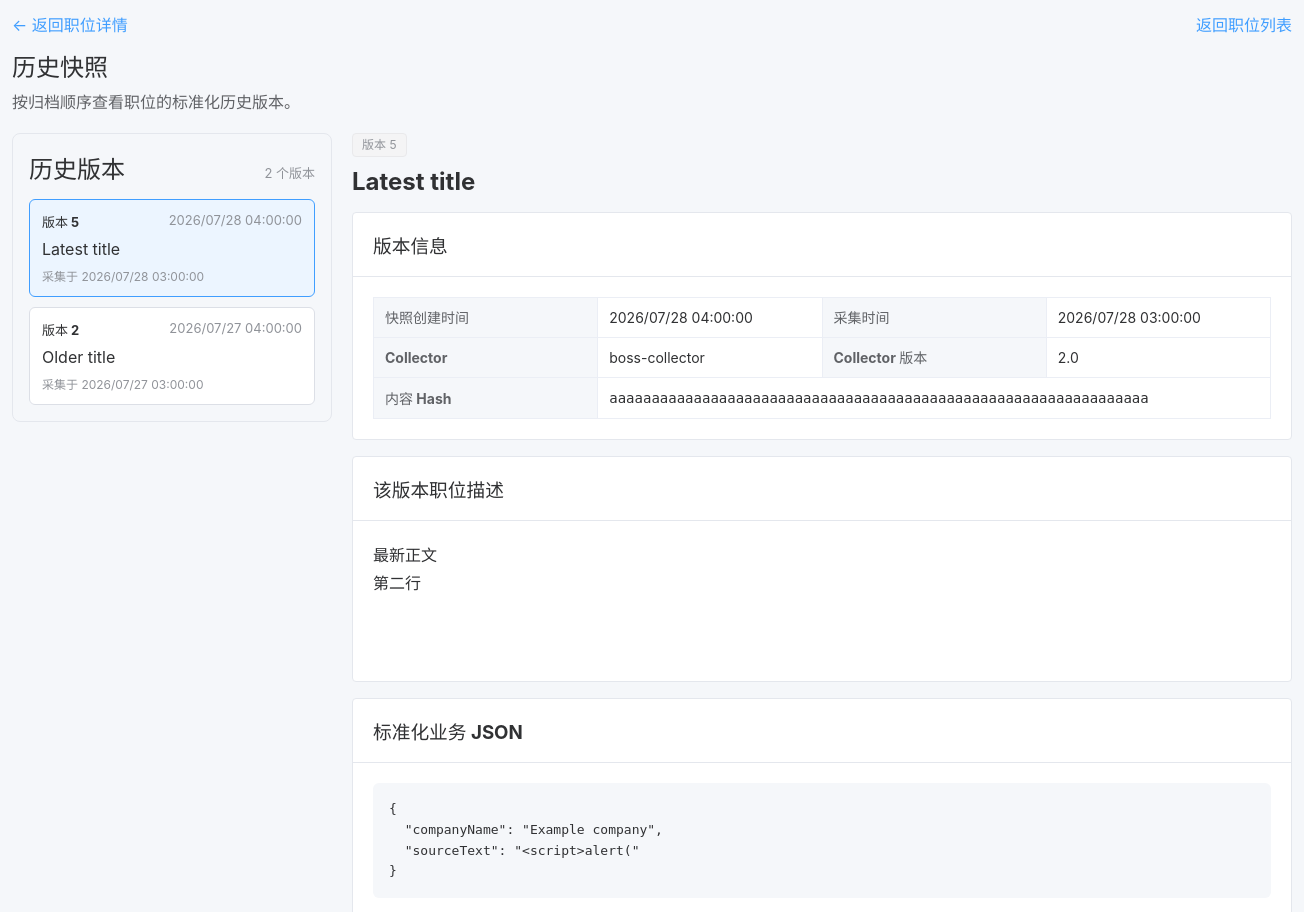
Test: JobSnapshotsView › keeps backend order, selects the newest item and switches gaps safely
The image size is (1304, 912).
Click the button with test id "snapshot-option-2": (61, 330) [29,307,315,405]
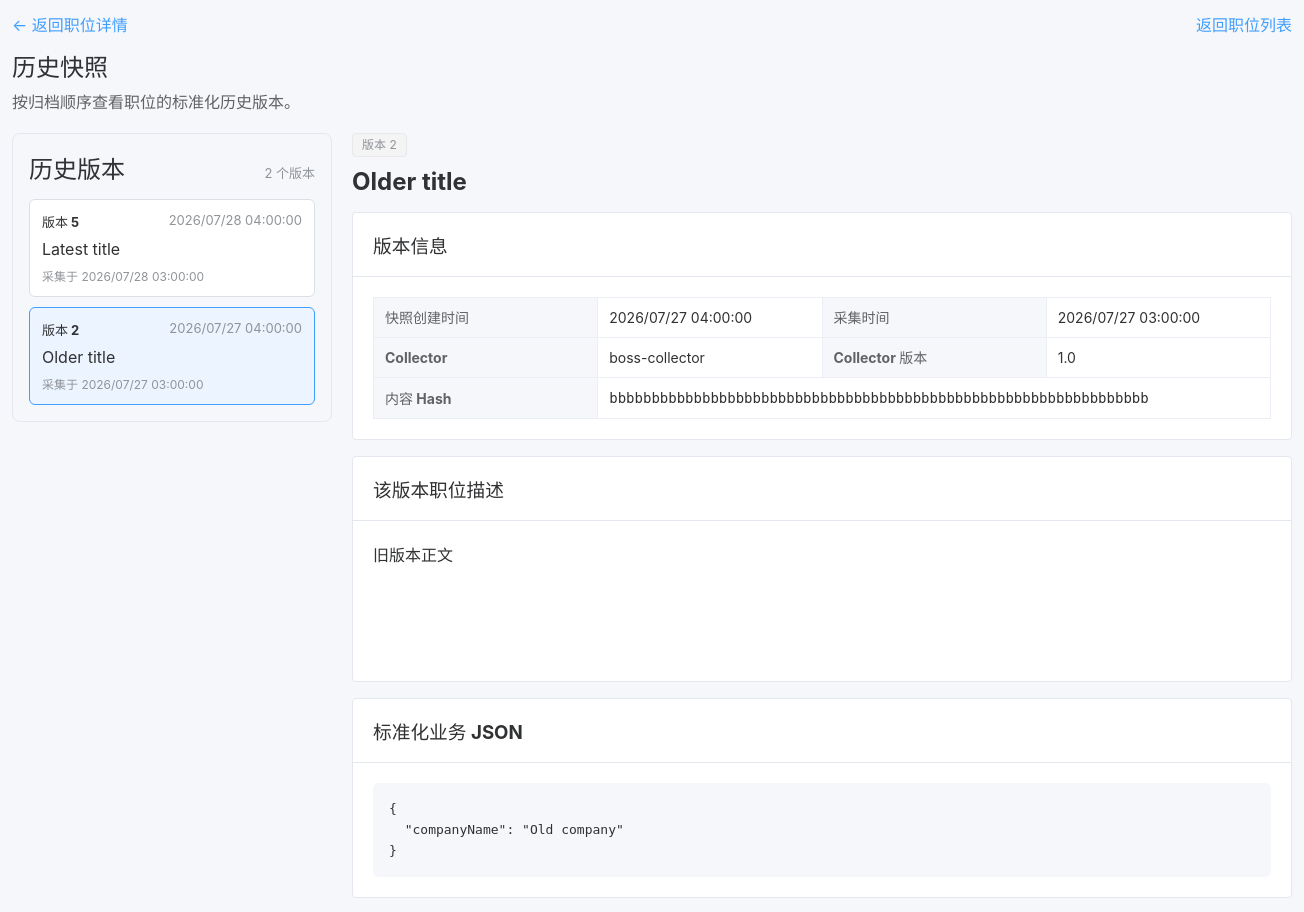
Expected: the text "旧版本正文" is shown, [373,545,453,565]
Expected: the text "Old company" is shown, [389,801,624,858]
Expected: the text "最新正文" is gone
